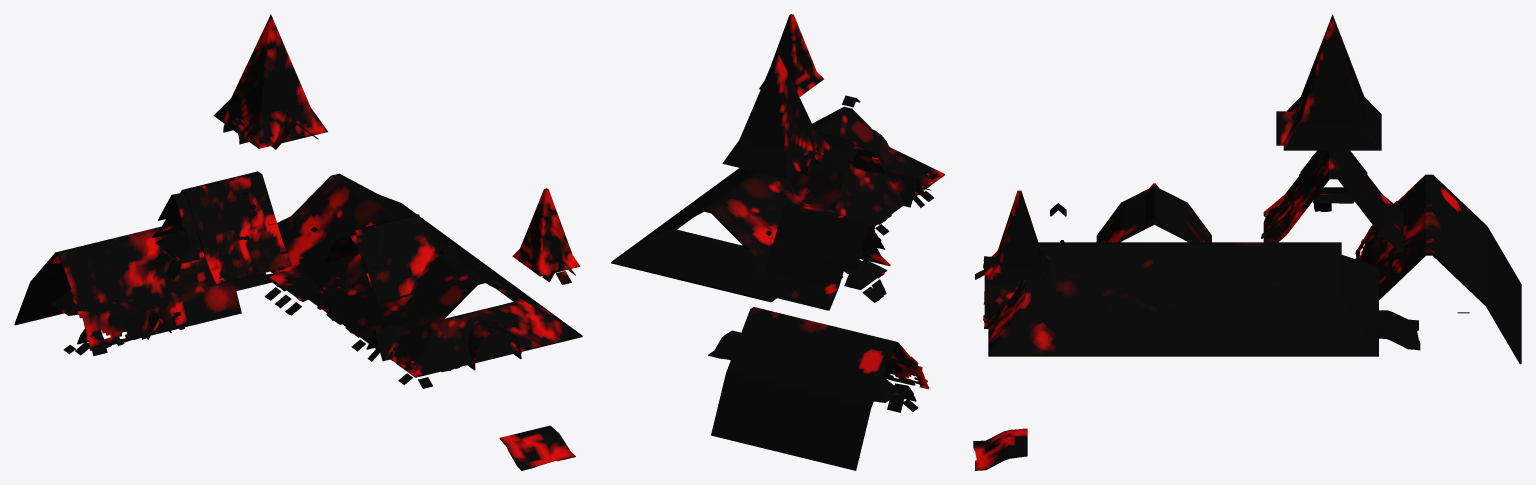
The model's file is Forest_building_056_04.fbx.
3 views of the same model, side by side, from view 1: azimuth 30°, elevation 25°; view 2: azimuth 150°, elevation 25°; view 3: azimuth 270°, elevation 25° (orthographic). The views are drawn at different scales.
Visible parts, largest first — view 1: Forest_building_056_04; view 2: Forest_building_056_04; view 3: Forest_building_056_04.
Part boxes in pixels (<box>): Forest_building_056_04: <box>14,14,582,470</box>; Forest_building_056_04: <box>611,14,944,470</box>; Forest_building_056_04: <box>973,14,1521,470</box>.
Bounding box in the file's own units: 3179 × 3333 × 4316.
